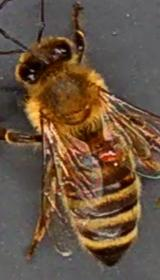varroa_mite: (92, 146, 125, 162)
